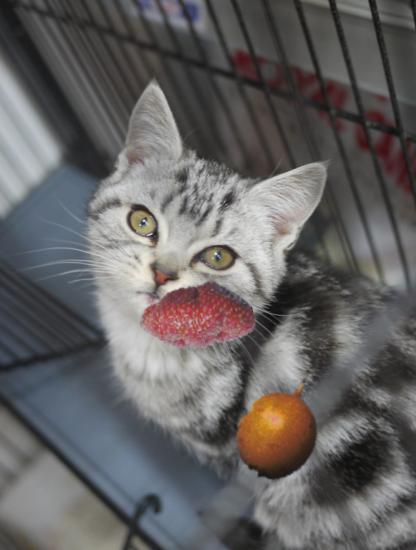Granadilla: (224, 366, 344, 486)
Strawberry: (140, 260, 254, 374)
